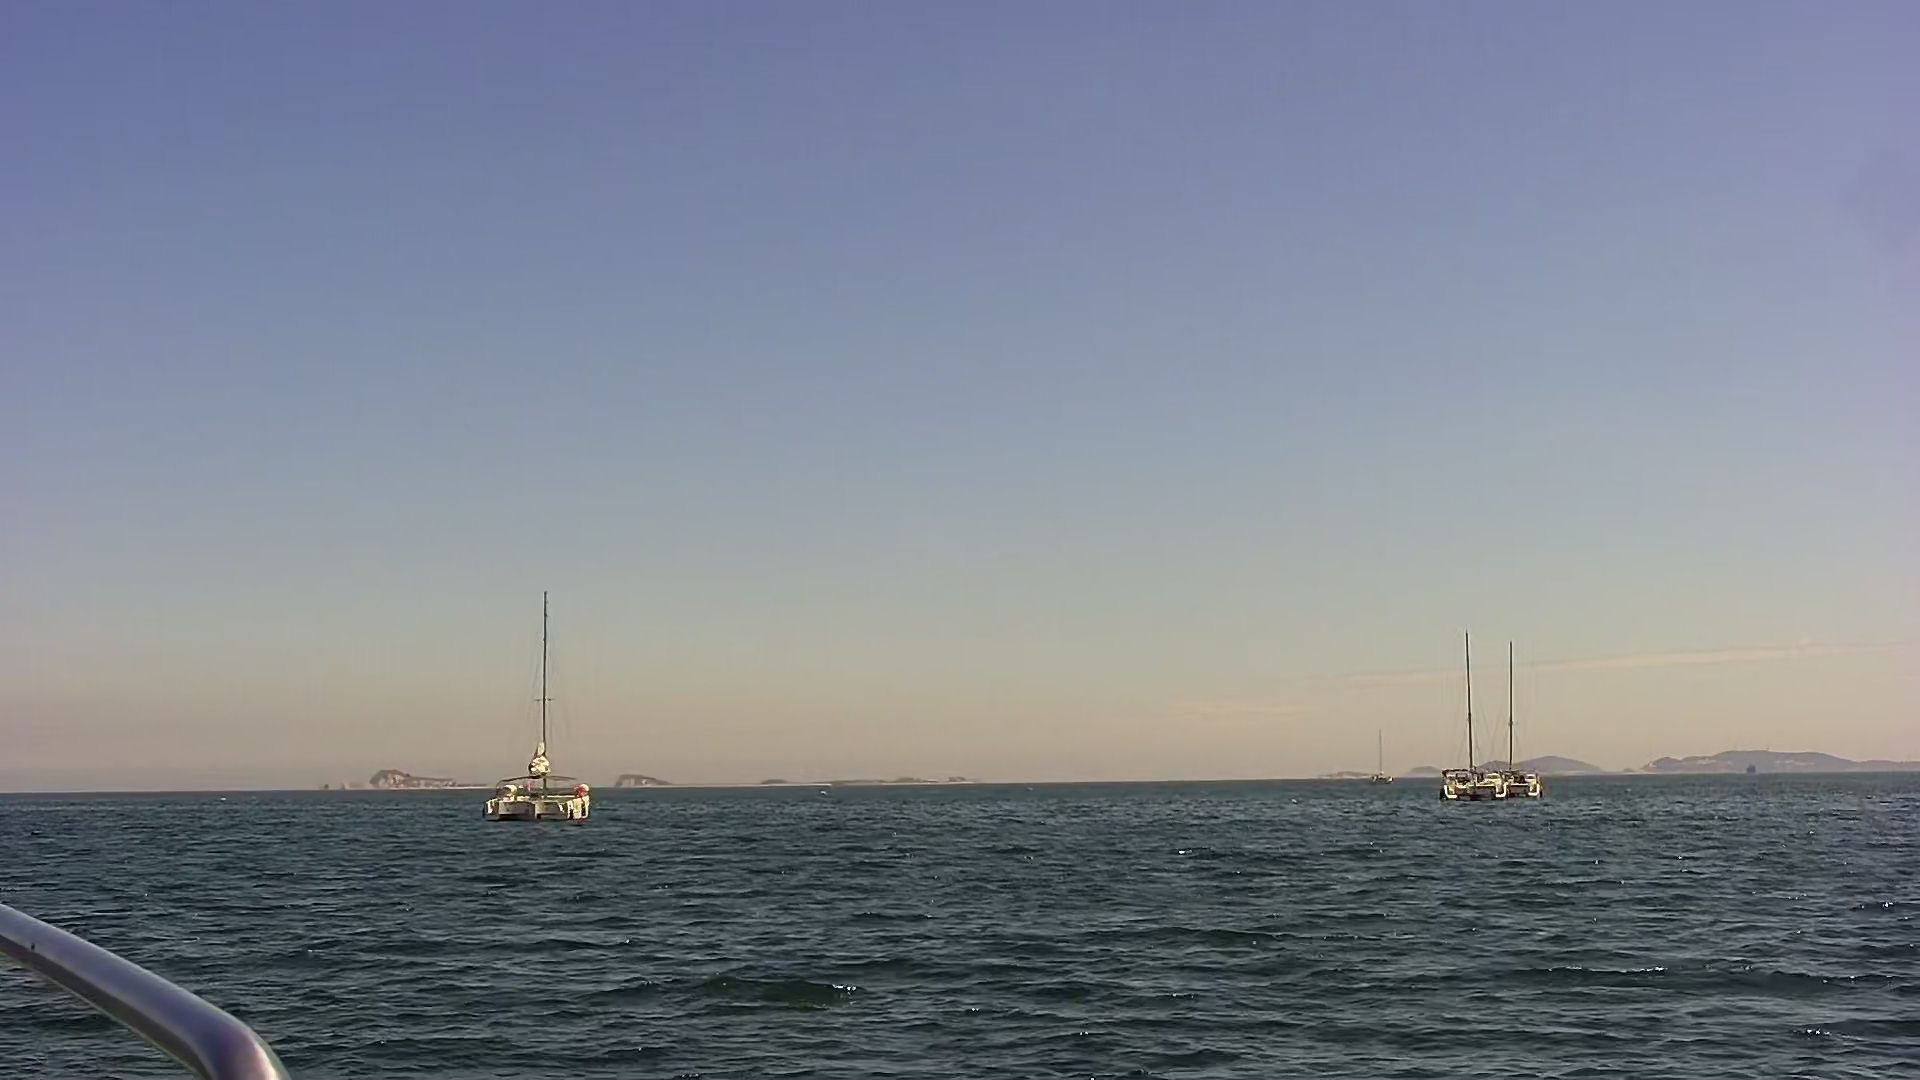boat: (477, 589, 607, 828), (1439, 628, 1511, 814), (1493, 628, 1561, 804), (1371, 724, 1402, 793)
rock: (1640, 750, 1894, 775), (1424, 744, 1619, 771), (353, 770, 473, 790), (829, 771, 964, 787), (615, 767, 684, 785), (1309, 767, 1389, 781), (760, 769, 800, 785)
